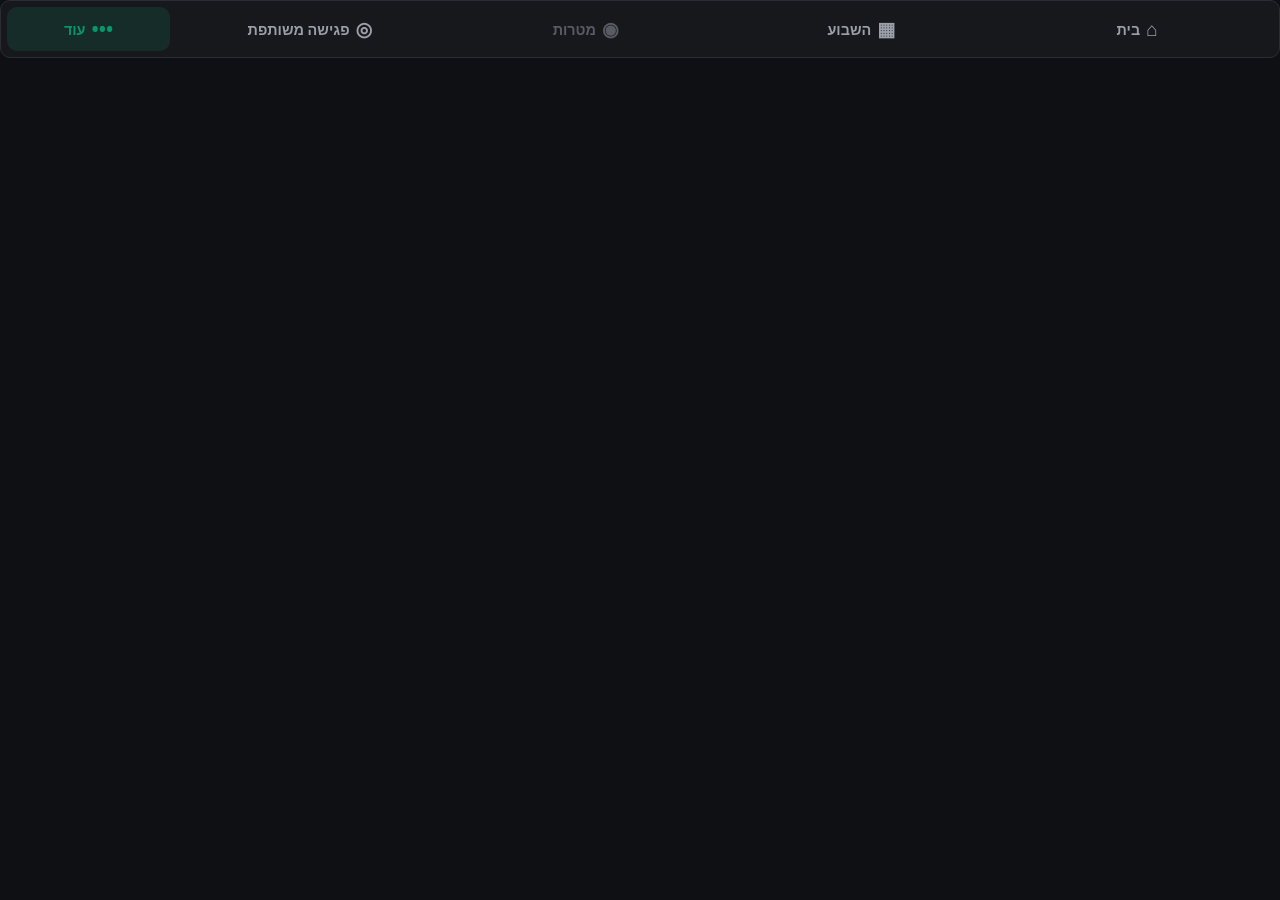
MobileNavigation › uses the same compact desktop navigation with grouped secondary destinations
What coordinates should you click on to do the following:
click the button "••• עוד"
I would click on:
 (88, 29)
Its box is [7,7,170,51].
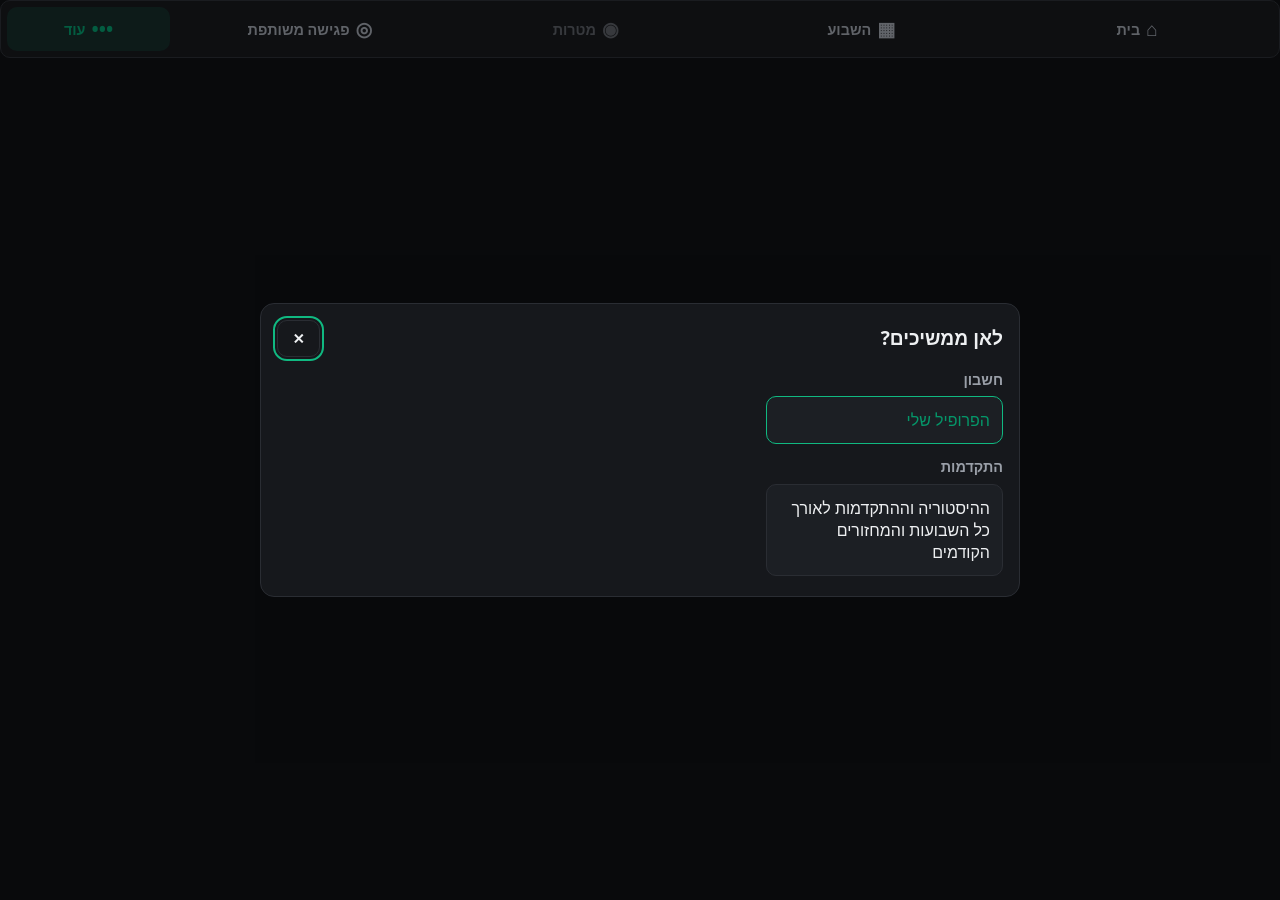
Result: the element "חשבון" shows "הפרופיל שלי" at [766,396,1003,444]
Result: the element "התקדמות" shows "ההיסטוריה וההתקדמות לאורך כל השבועות והמחזורים הקודמים" at [766,484,1003,576]
